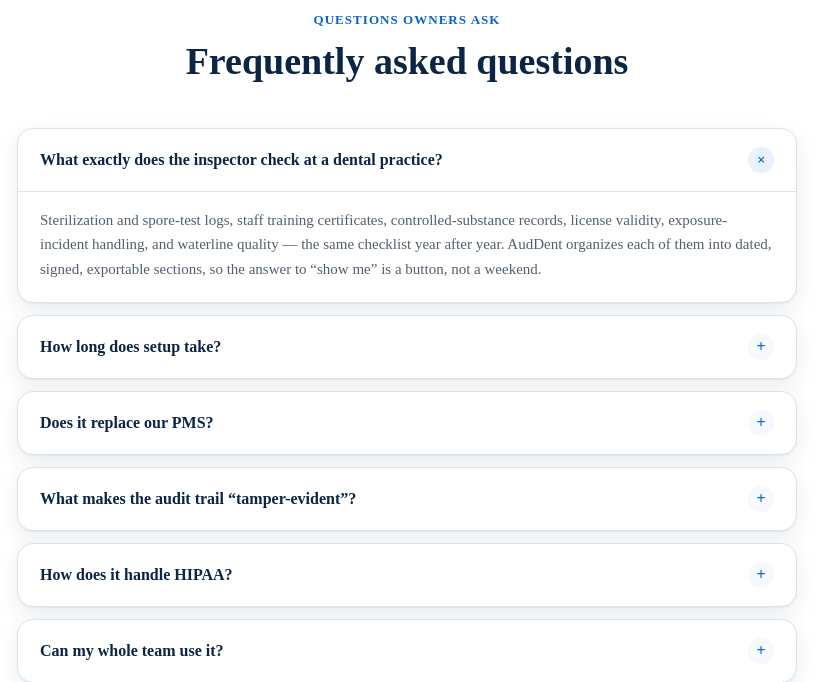
Test: FAQ › toggles a closed answer open and closed
This screenshot has width=815, height=682.
Step 1. Click the button "How long does setup take? +" → (131, 346), box top-left (18, 316), bottom-right (796, 378)
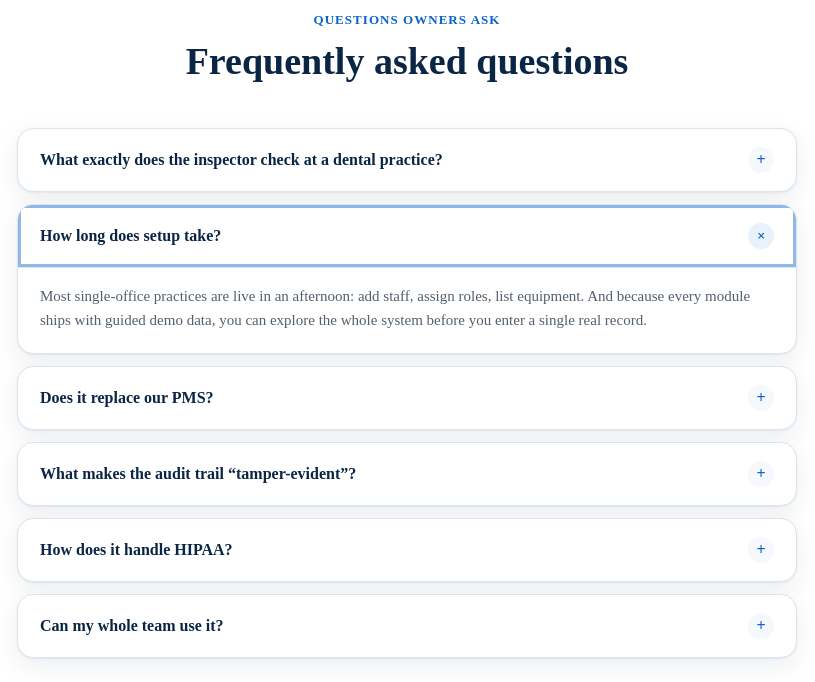
Now the button "How long does setup take? +" is expanded
Now the element named "How long does setup take?" is shown, box top-left (18, 267), bottom-right (796, 353)
Now the element named "How long does setup take?" shows "live in an afternoon", box top-left (40, 288), bottom-right (750, 328)
Step 2. Click the button "How long does setup take? +" → (131, 235), box top-left (18, 205), bottom-right (796, 267)
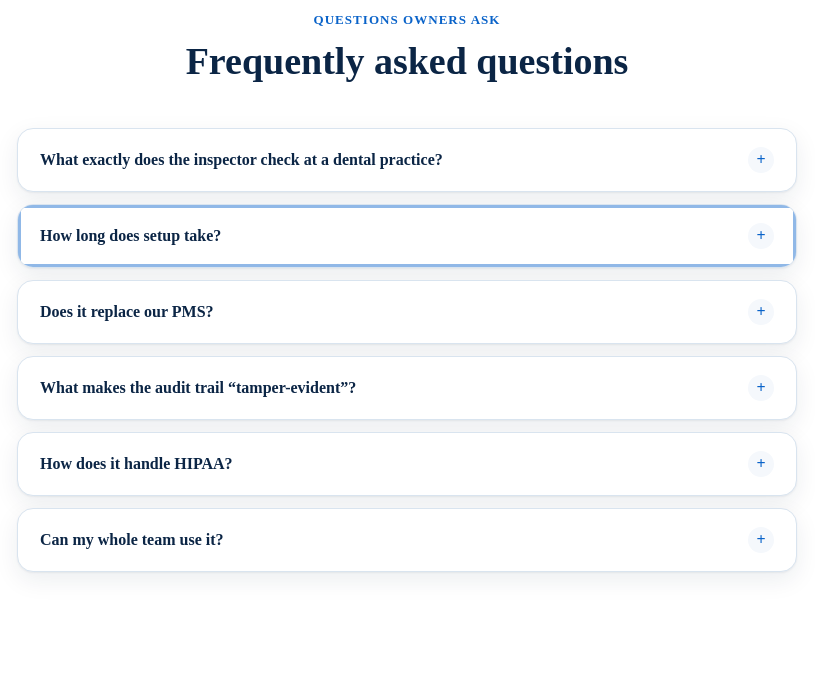
Now the button "How long does setup take? +" is collapsed, box top-left (18, 205), bottom-right (796, 267)
